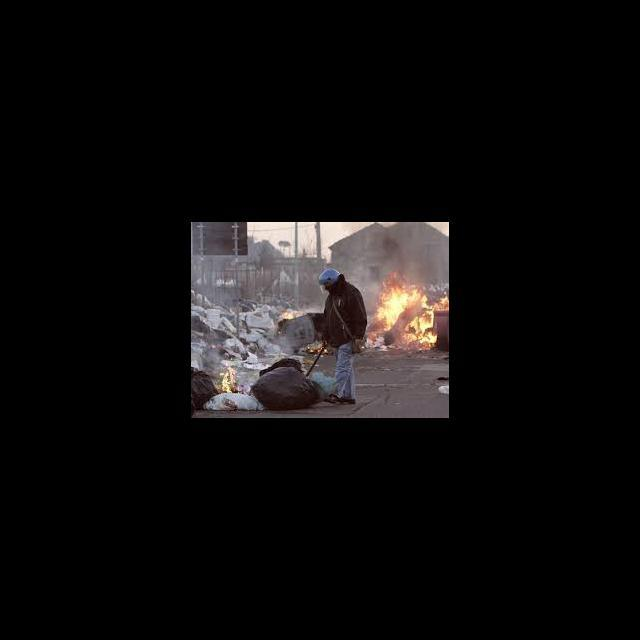Fire: (376, 272, 449, 348)
Smoke: (362, 222, 448, 271), (365, 269, 375, 314)
